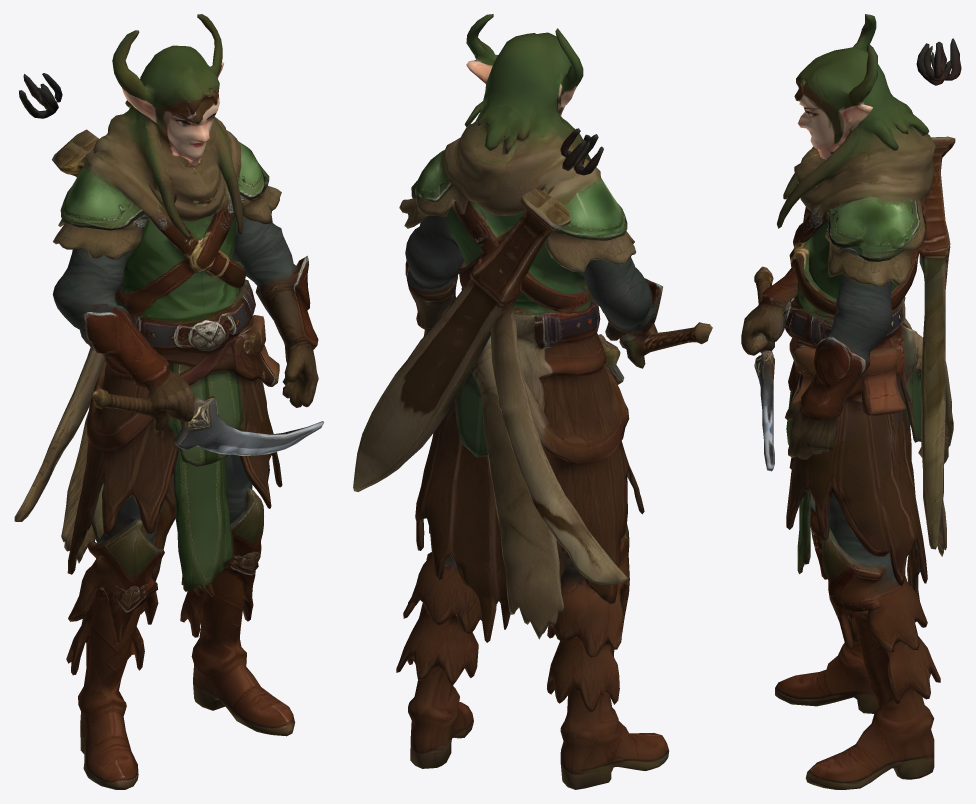
The model's file is celtic-guardian.glb.
The picture shows the model from 3 angles, left to right: view 1: azimuth 30°, elevation 25°; view 2: azimuth 150°, elevation 25°; view 3: azimuth 270°, elevation 25°; orthographic projection. The views are drawn at different scales.
Bounding box in the file's own units: 0.728 × 1.91 × 0.5362.
1 material, 1 textured.
